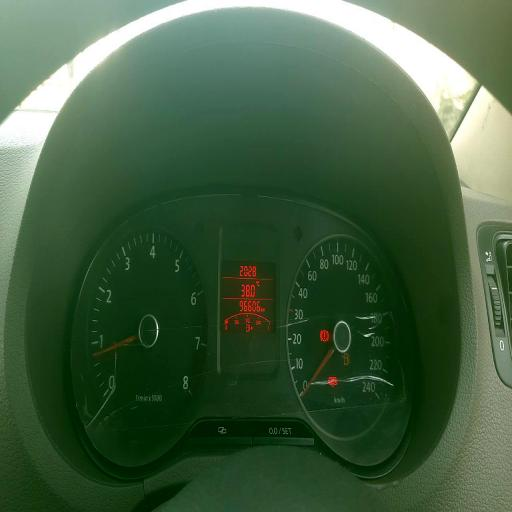brake_system_fault: (320, 330, 329, 342)
tachometer: (88, 227, 210, 429)
